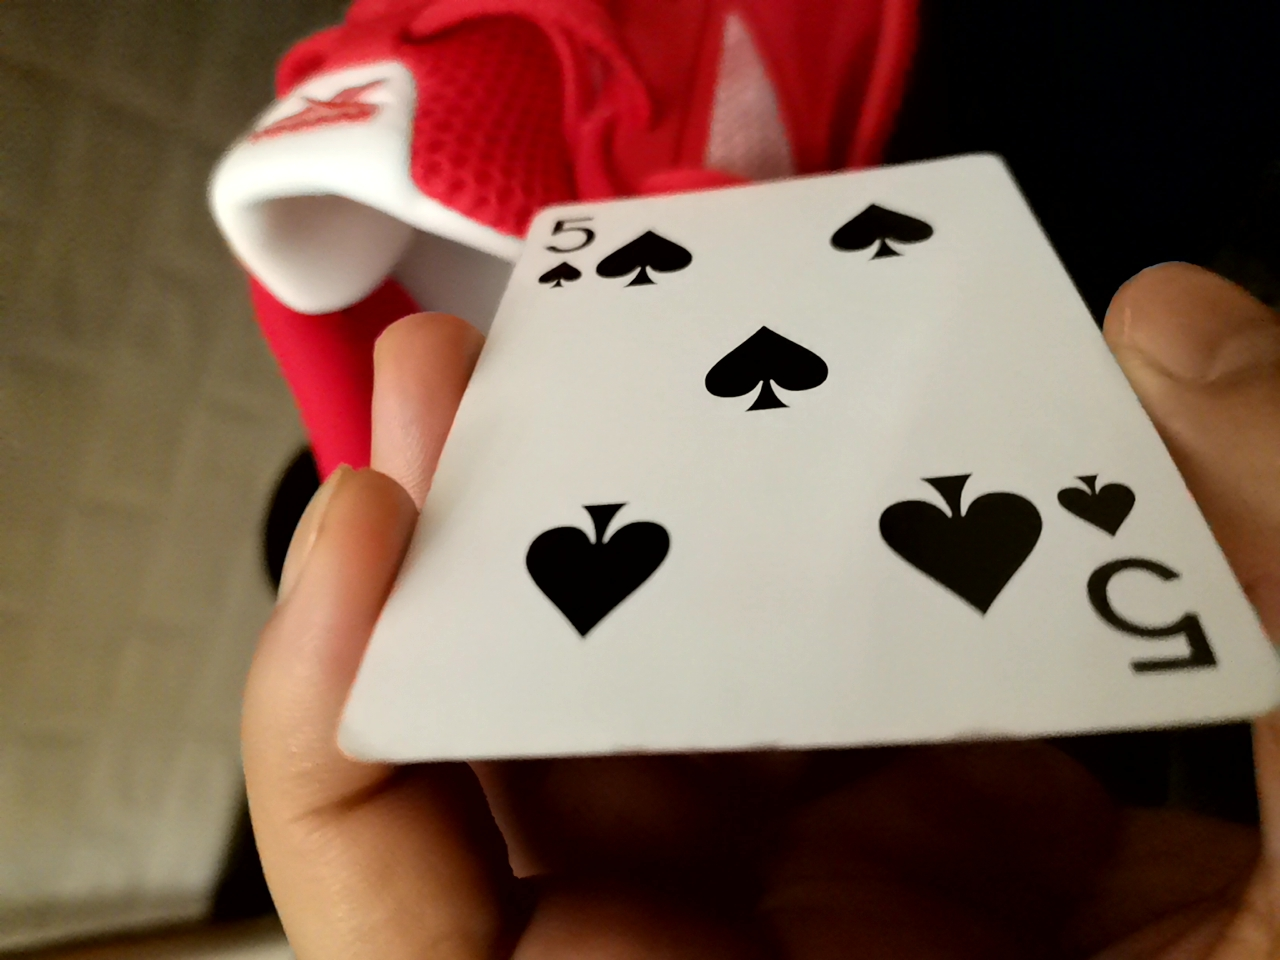ht 5: (319, 156, 1254, 778)
